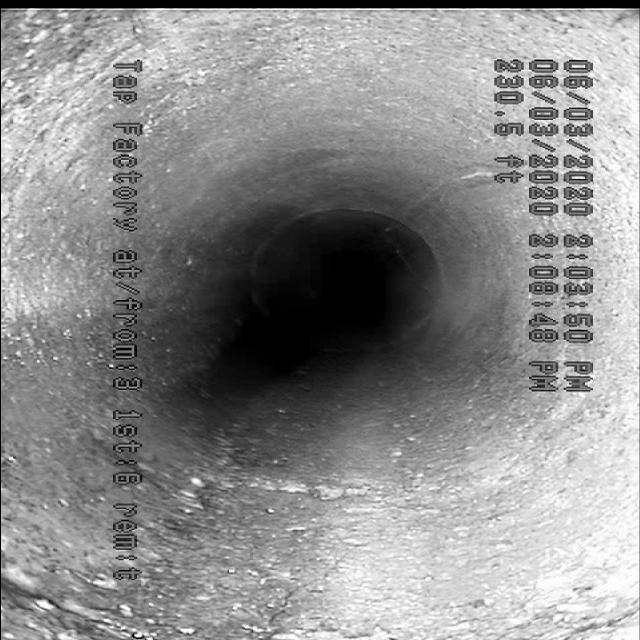Crack: (256, 533, 396, 629)
